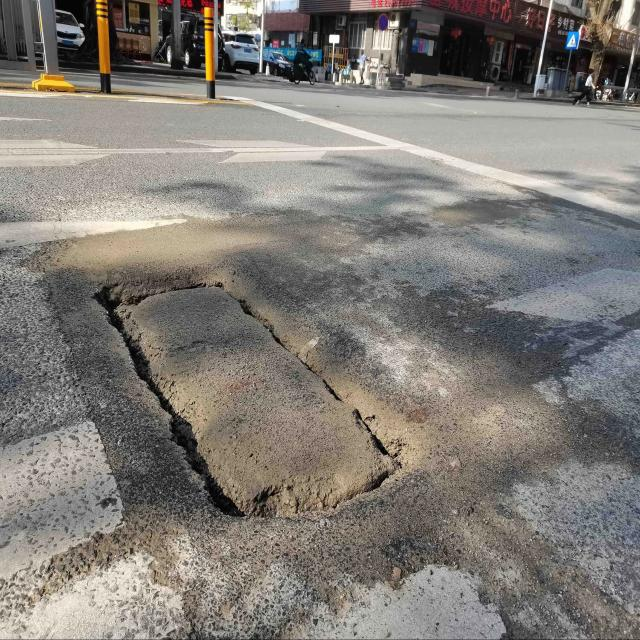Pothole: (88, 276, 416, 524)
